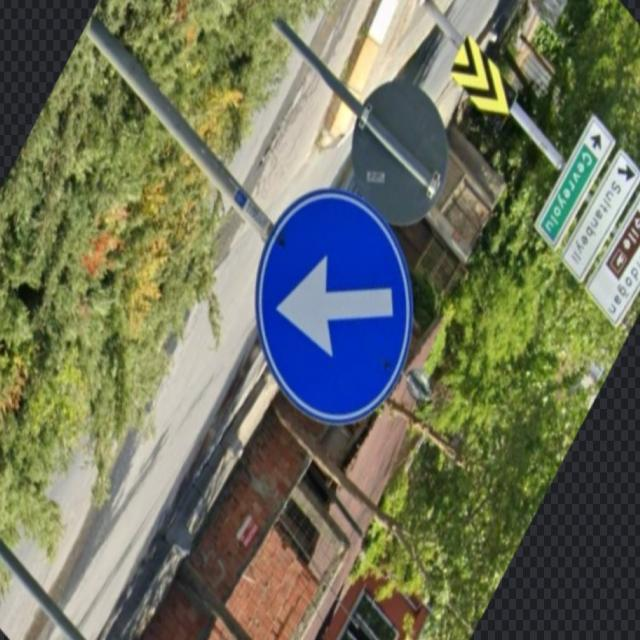Turn Left: (256, 178, 416, 428)
